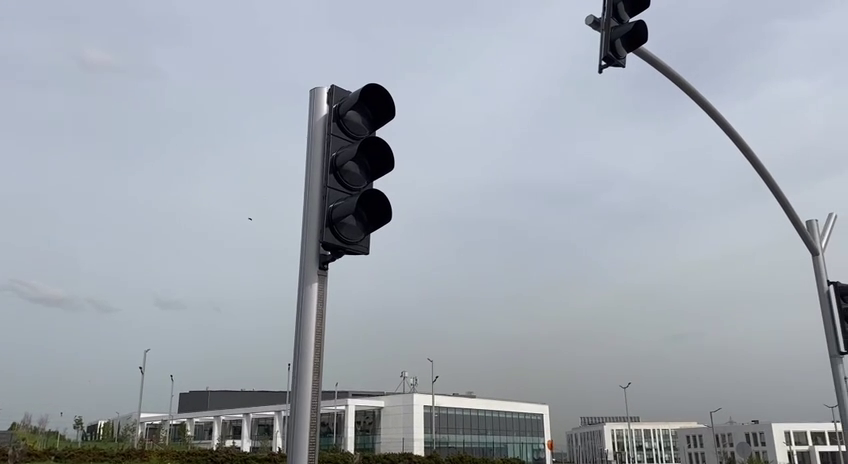trafficLight: (303, 77, 400, 271), (594, 1, 653, 77)
